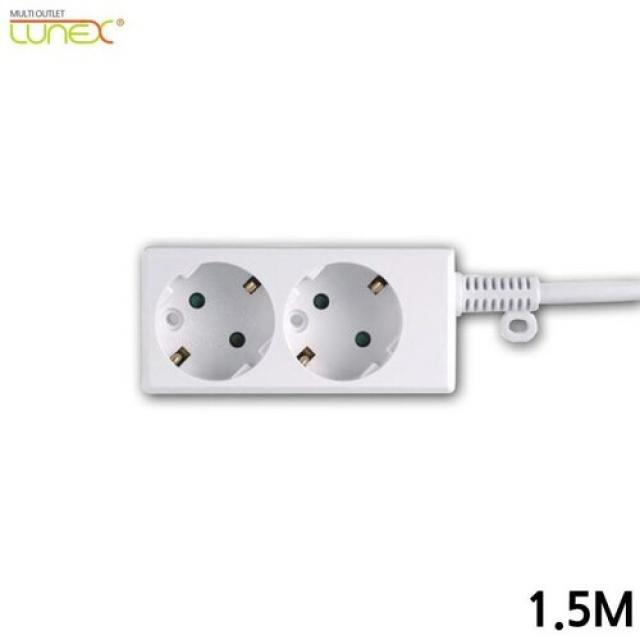typeb: (23, 218, 511, 504)
